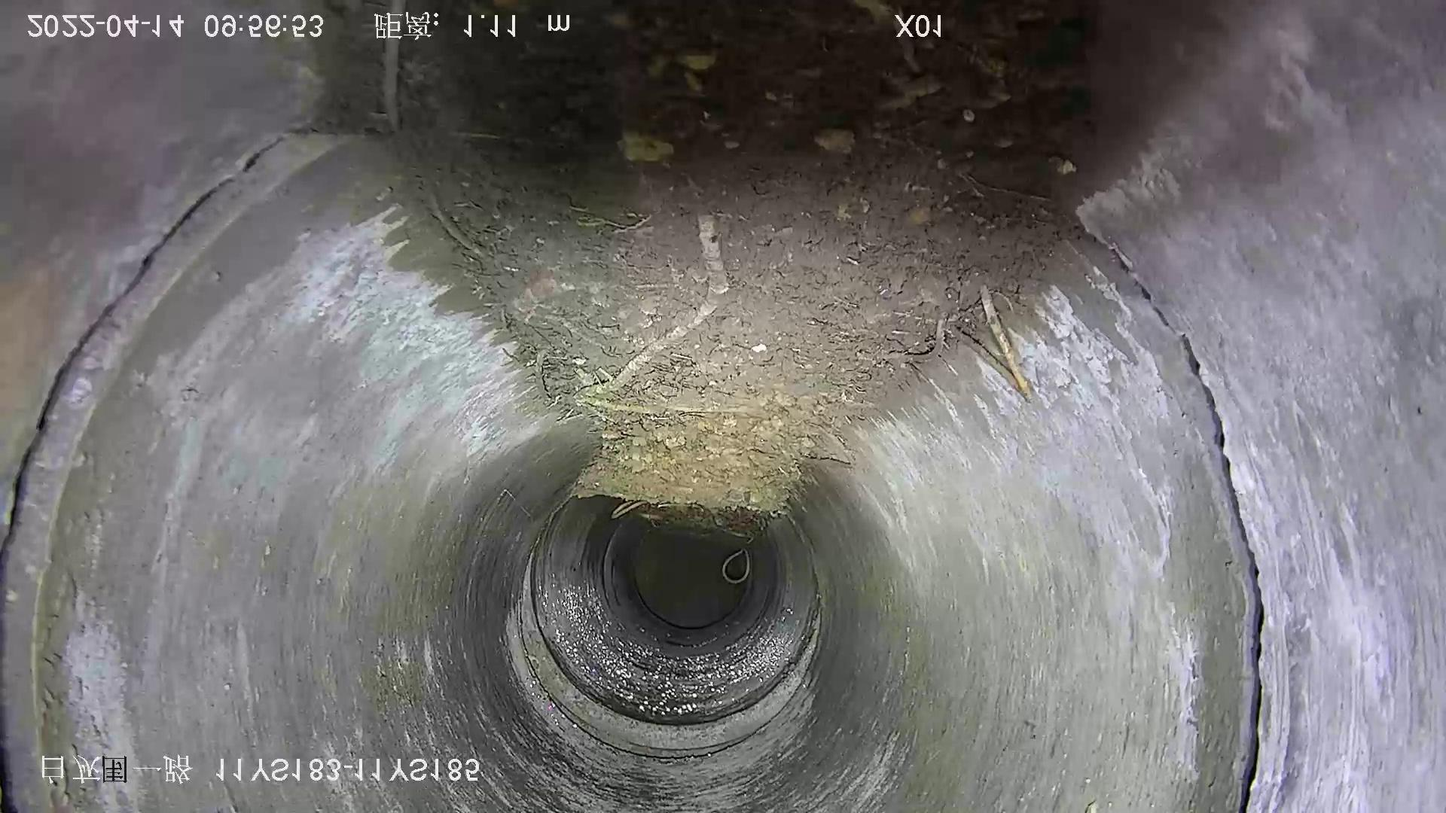CJ: (318, 1, 1214, 534)
CKTJ: (0, 134, 344, 813), (1069, 233, 1264, 813), (521, 564, 819, 757)
